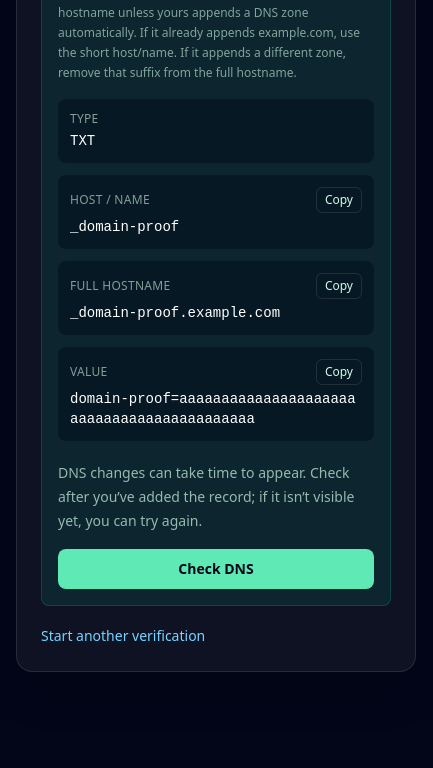
Scenario: App › explains the record_mismatch result and allows retry
The width and height of the screenshot is (433, 768).
(page scrolled)
Click the button "Check DNS". click: point(216, 569)
box: [58,549,374,589]
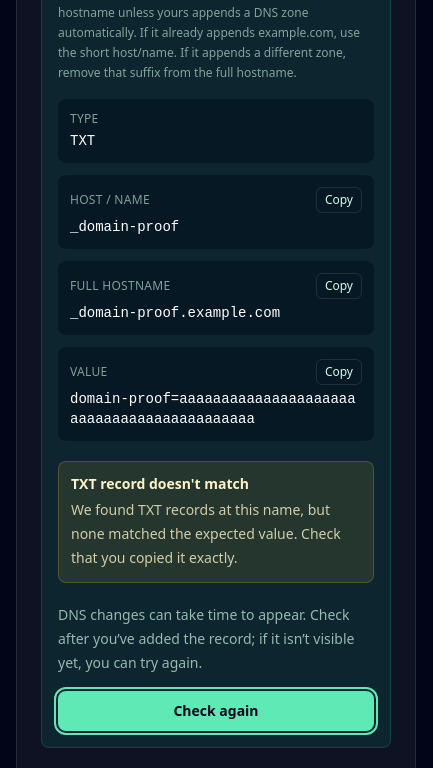
Check: the heading "TXT record doesn't match" is shown, box [71,474,249,493]
Check: the text "none matched the expected value" is shown, box [71,500,341,567]
Check: the button "Check again" is shown, box [58,691,374,731]
